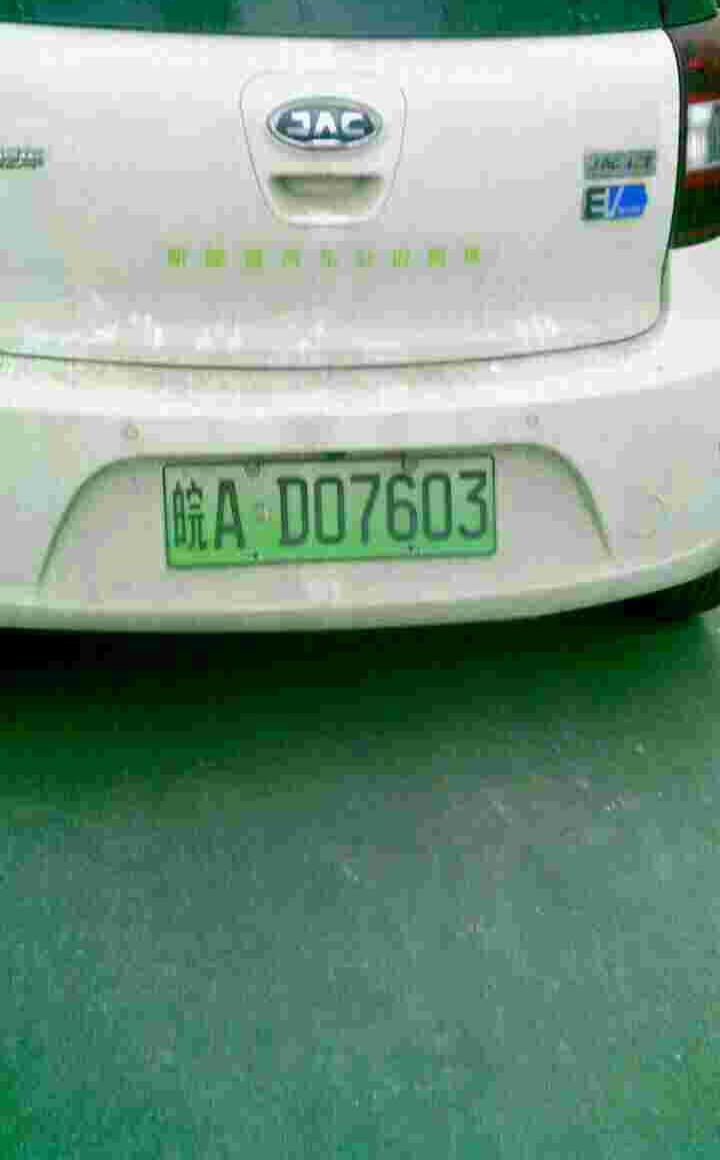car_id: (163, 453, 496, 564)
